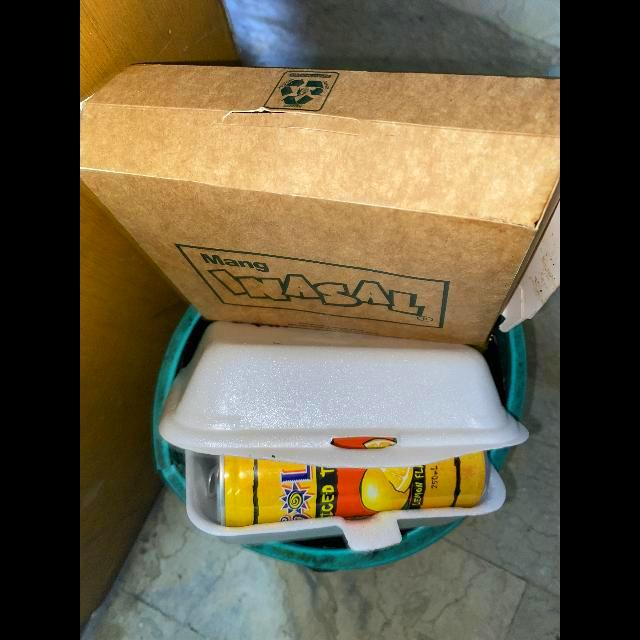aluminum: (206, 451, 486, 527)
cardboard: (80, 63, 560, 355)
